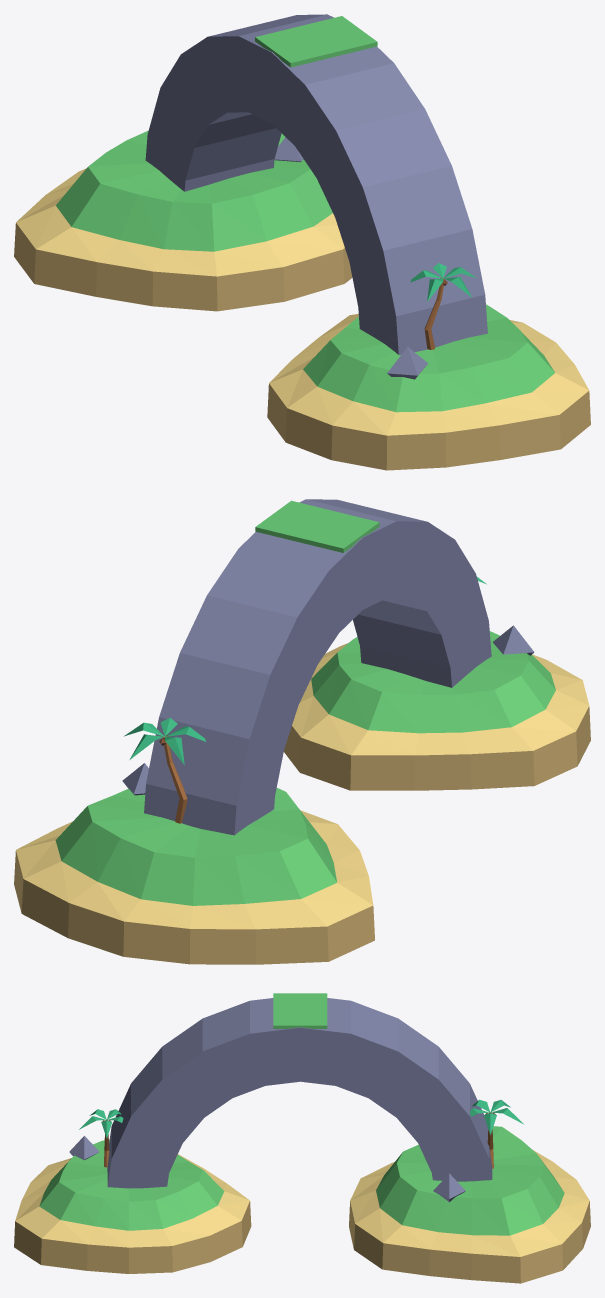
Rendered from island-rock-arch.glb.
3 views of the same model, one above another, from view 1: azimuth 30°, elevation 25°; view 2: azimuth 150°, elevation 25°; view 3: azimuth 270°, elevation 25° (orthographic). The views are drawn at different scales.
Parts seen in each view (by area): view 1: rock, grass, sand_edge, sand, leaf; view 2: rock, grass, sand_edge, sand, leaf, trunk; view 3: rock, grass, sand, sand_edge, leaf.
Boxes of the visible parts, x1,y1,x2,y2 form: rock: (145,14,487,379); grass: (56,16,554,412); sand_edge: (14,223,590,470); sand: (16,168,589,435); leaf: (410,263,476,301); rock: (122,499,534,835); grass: (55,500,555,905); sand_edge: (14,706,590,964); sand: (16,643,589,929); leaf: (124,576,486,764); trunk: (163,736,187,823); rock: (69,998,492,1202); grass: (39,993,564,1235); sand: (15,1150,589,1256); sand_edge: (14,1201,590,1283); leaf: (79,1099,523,1138).
Bounding box in the file's own units: 7.62 × 6.43 × 15.49.
